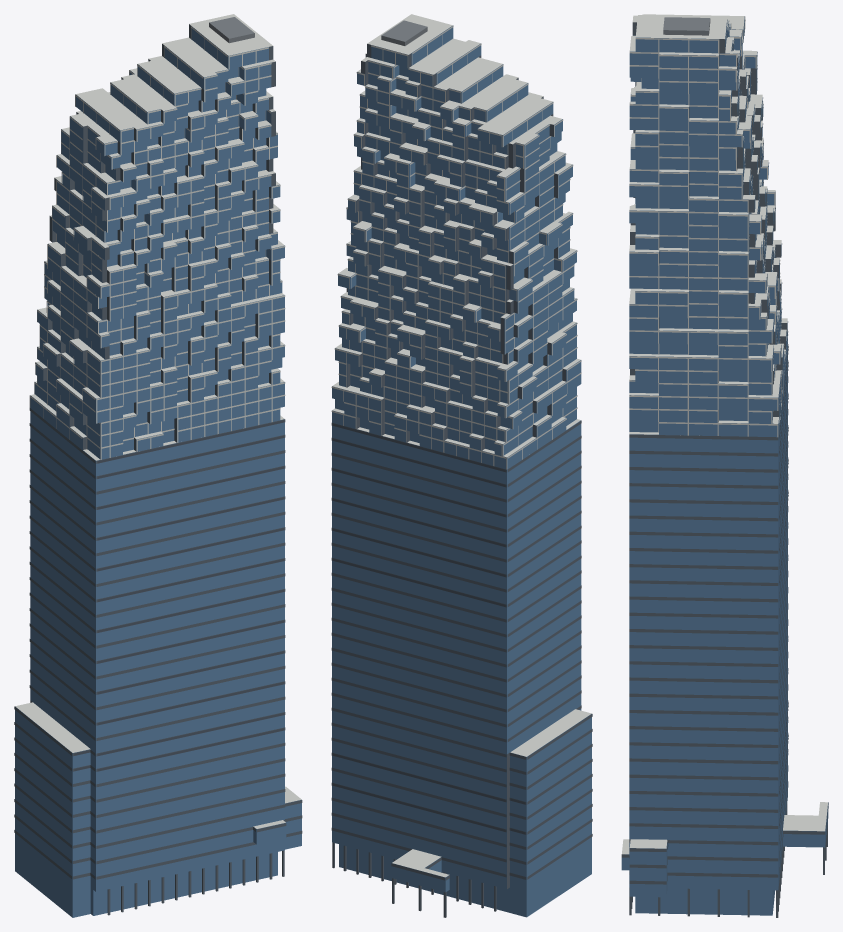
The model's file is telus-sky-far.glb.
The picture shows the model from 3 angles, left to right: view 1: azimuth 30°, elevation 25°; view 2: azimuth 150°, elevation 25°; view 3: azimuth 270°, elevation 25°; orthographic projection. The views are drawn at different scales.
Parts seen in each view (by area): view 1: telus-sky-0-glass, telus-sky-0-ledge, telus-sky-0-frame, telus-sky-0-glow, telus-sky-0-metal; view 2: telus-sky-0-glass, telus-sky-0-ledge, telus-sky-0-frame, telus-sky-0-glow, telus-sky-0-metal; view 3: telus-sky-0-glass, telus-sky-0-frame, telus-sky-0-ledge, telus-sky-0-metal, telus-sky-0-glow.
Boxes of the visible parts, x1=… form: telus-sky-0-glass: x1=15, y1=26, x2=301, y2=917; telus-sky-0-ledge: x1=15, y1=14, x2=301, y2=828; telus-sky-0-frame: x1=14, y1=24, x2=302, y2=915; telus-sky-0-glow: x1=74, y1=420, x2=284, y2=771; telus-sky-0-metal: x1=209, y1=17, x2=254, y2=43; telus-sky-0-glass: x1=332, y1=25, x2=591, y2=917; telus-sky-0-ledge: x1=331, y1=14, x2=591, y2=877; telus-sky-0-frame: x1=331, y1=44, x2=592, y2=917; telus-sky-0-glow: x1=332, y1=423, x2=524, y2=834; telus-sky-0-metal: x1=381, y1=20, x2=427, y2=45; telus-sky-0-glass: x1=621, y1=16, x2=828, y2=915; telus-sky-0-frame: x1=621, y1=22, x2=828, y2=917; telus-sky-0-ledge: x1=622, y1=14, x2=827, y2=854; telus-sky-0-metal: x1=663, y1=17, x2=710, y2=35; telus-sky-0-glow: x1=667, y1=346, x2=788, y2=849.
Bounding box in the file's own units: 61.65 × 222 × 47.65.
